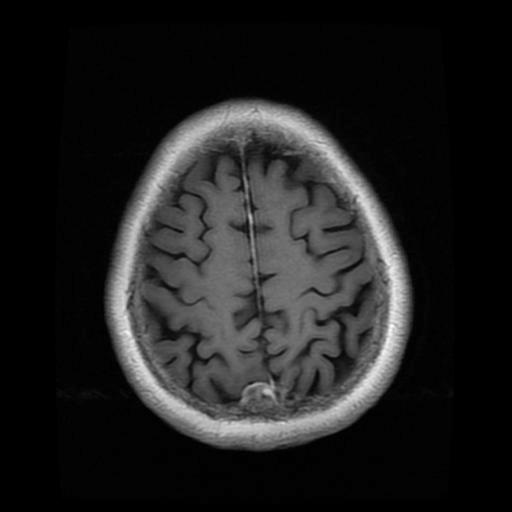Tumour-Meningioma: (221, 374, 289, 421)
